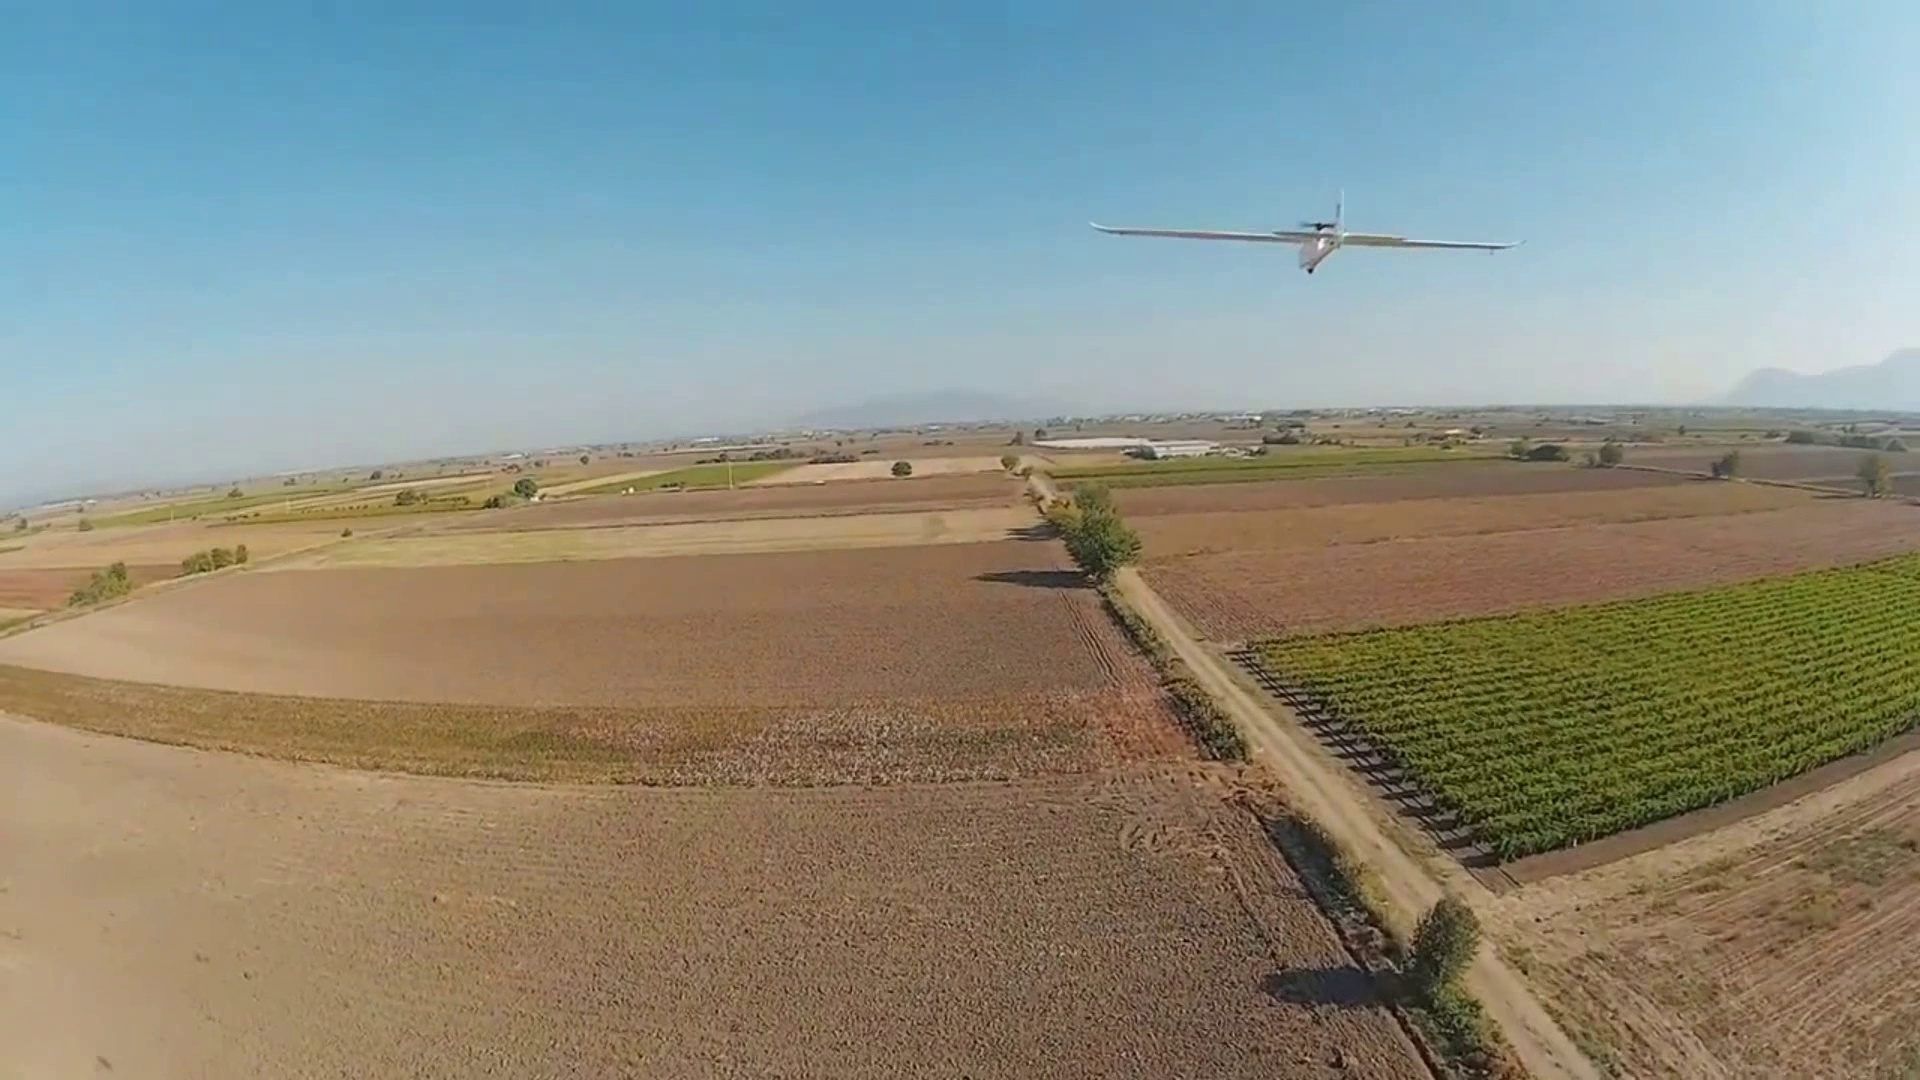airplane: (1087, 193, 1520, 274)
